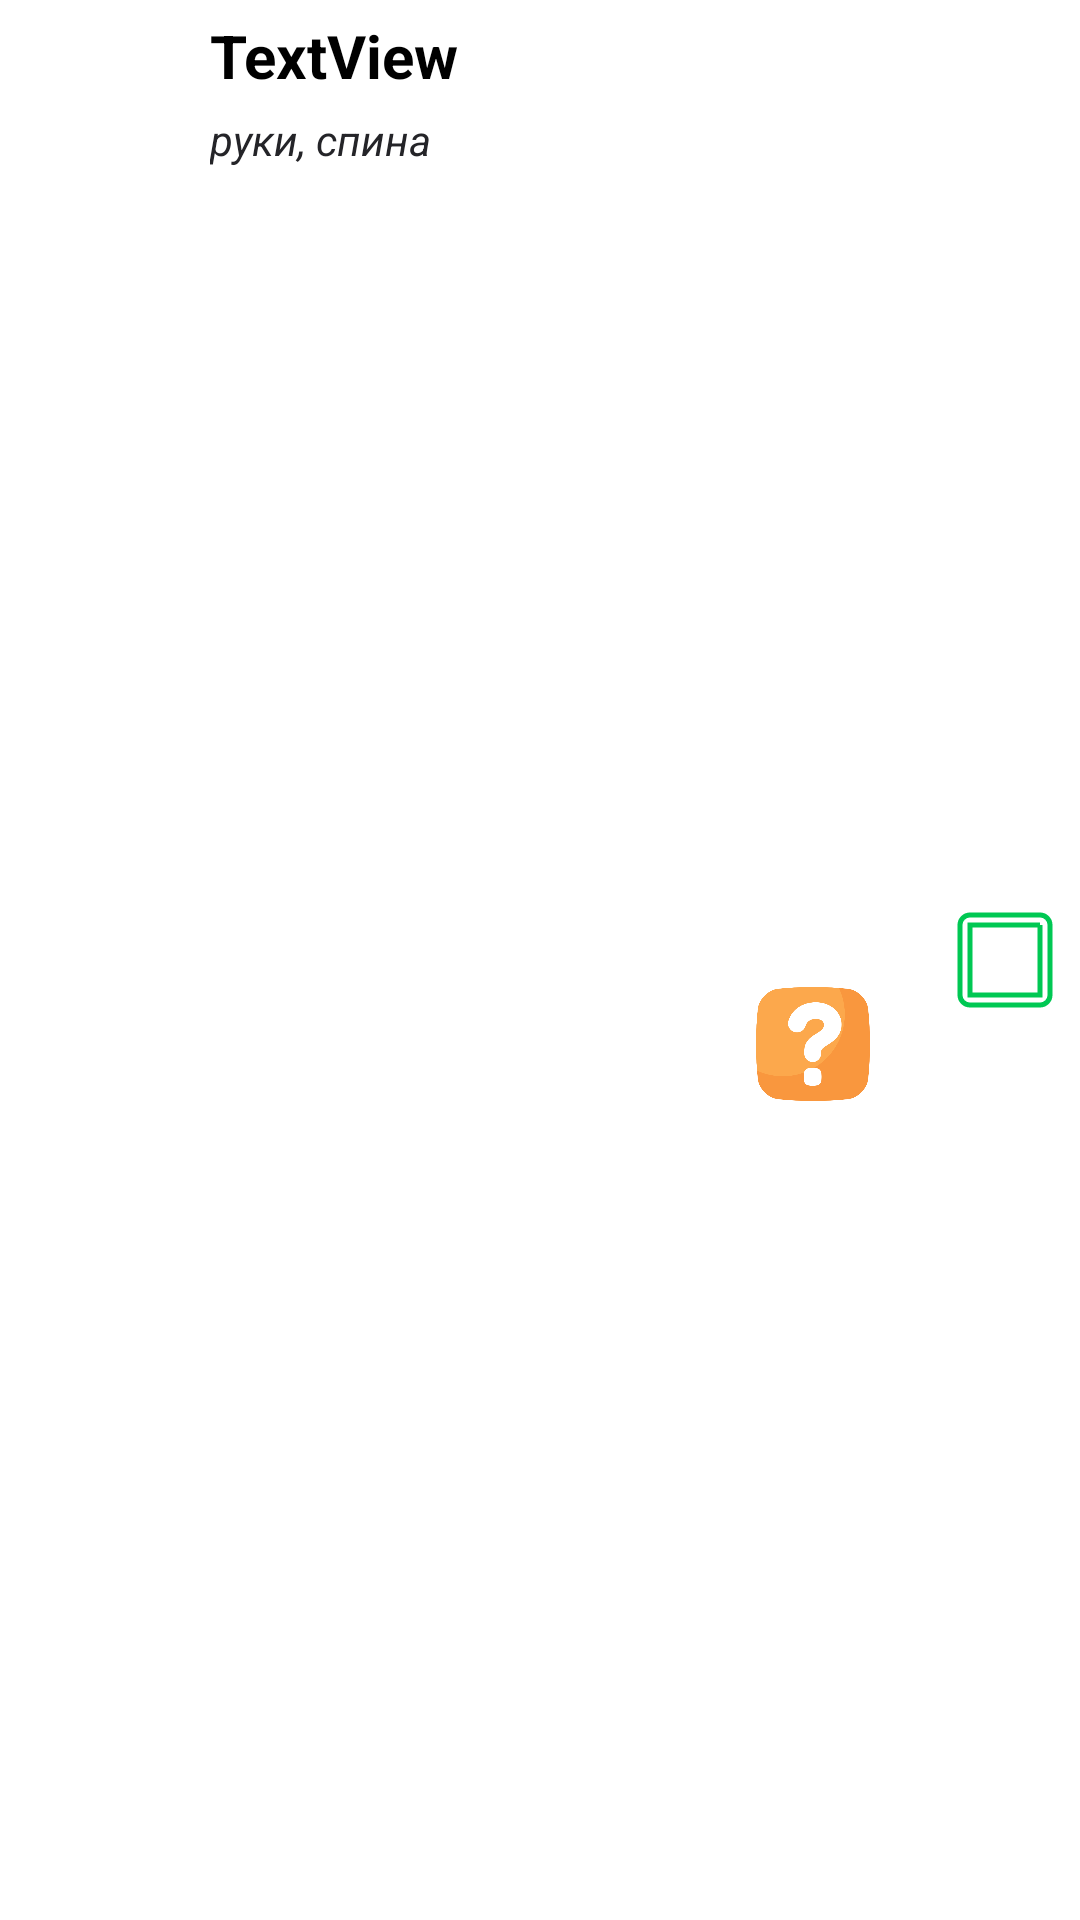

Icon bounding boxes for this 1080x1920 phone screenshot, format [left=x1, top=y1, right=x2, bottom=y2]:
checkbox: [left=957, top=912, right=1053, bottom=1008]
help: [left=756, top=987, right=870, bottom=1101]
